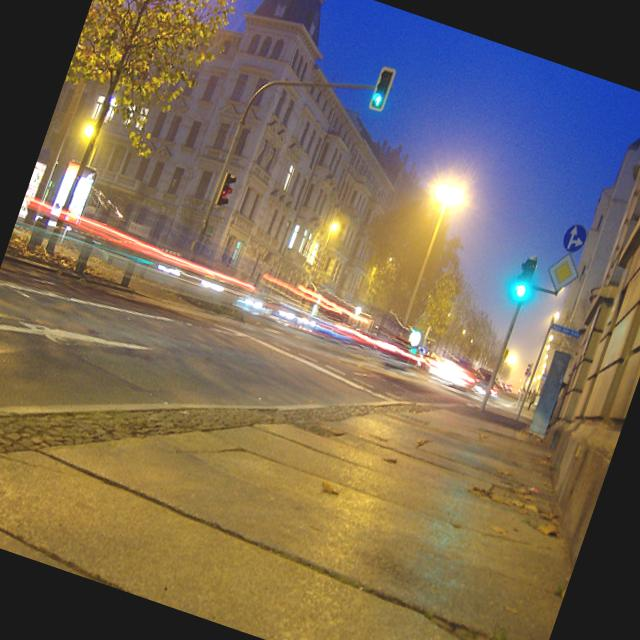Vehicle: (468, 375, 502, 402), (454, 369, 478, 391)
